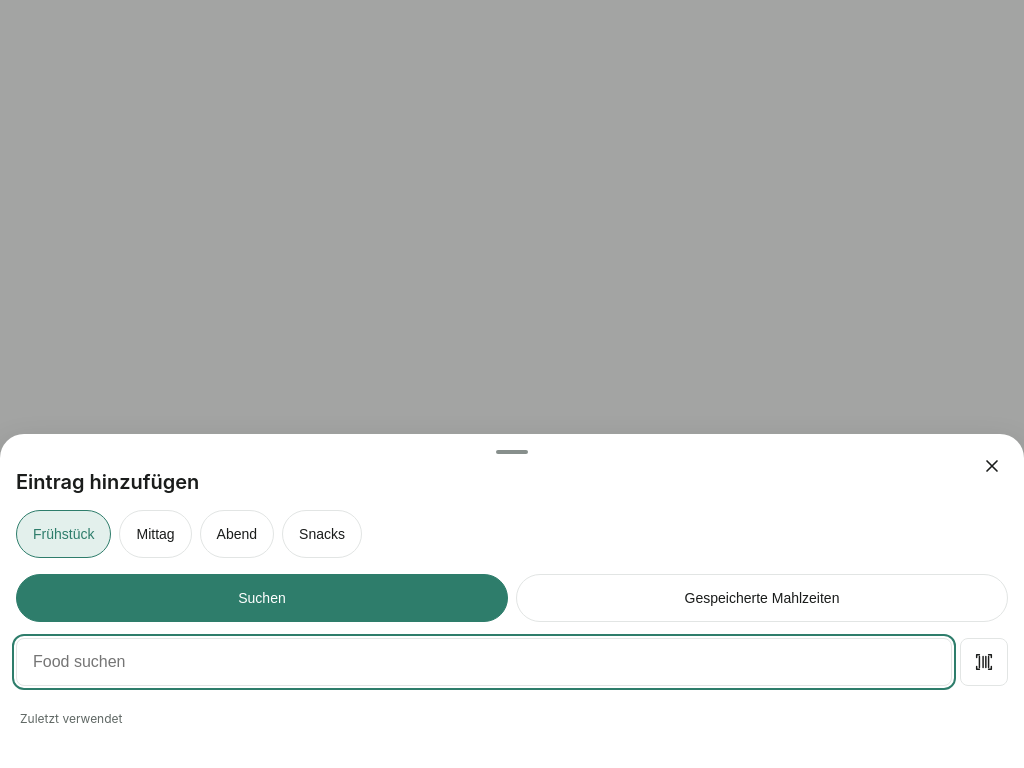
Scenario: FoodEntrySheetComponent › Barcode-Scan (ADR-0010) › a resolved scan (scanPhase "resolved") auto-switches to Step B
Click the button named "Barcode scannen". click: (984, 662)
box: 960,638 -> 1008,686
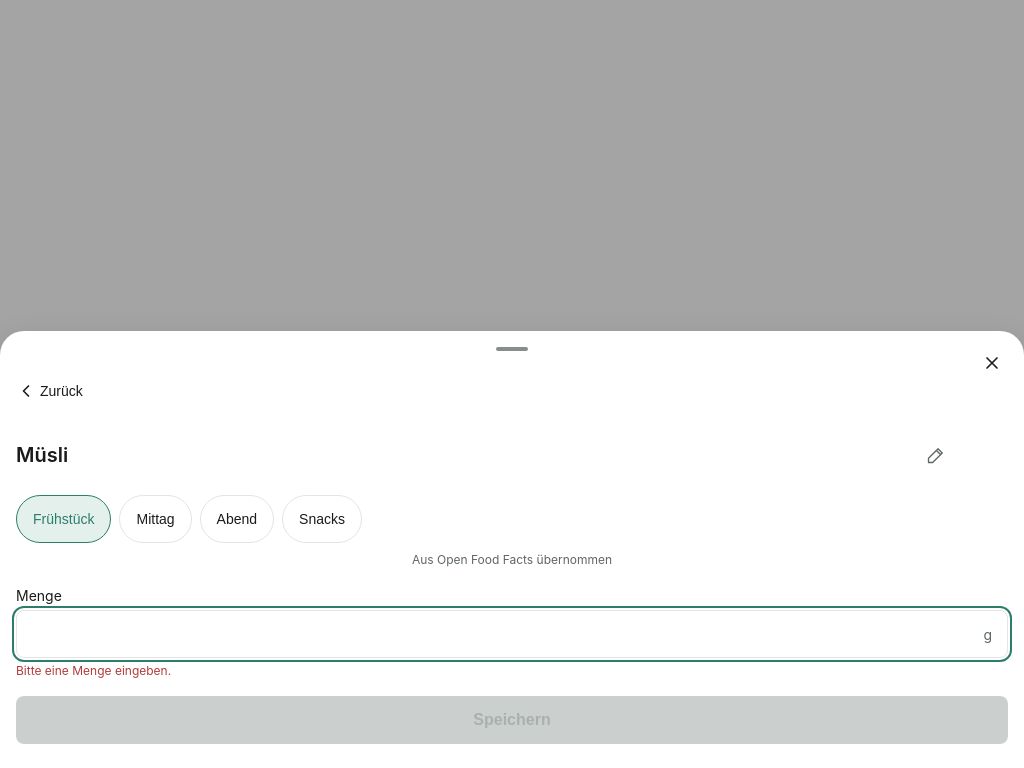
Check: the form with class "amount-form" is shown, box 16,585 -> 1008,744
Check: the text "Aus Open Food Facts übernommen" is shown, box 412,552 -> 612,567
